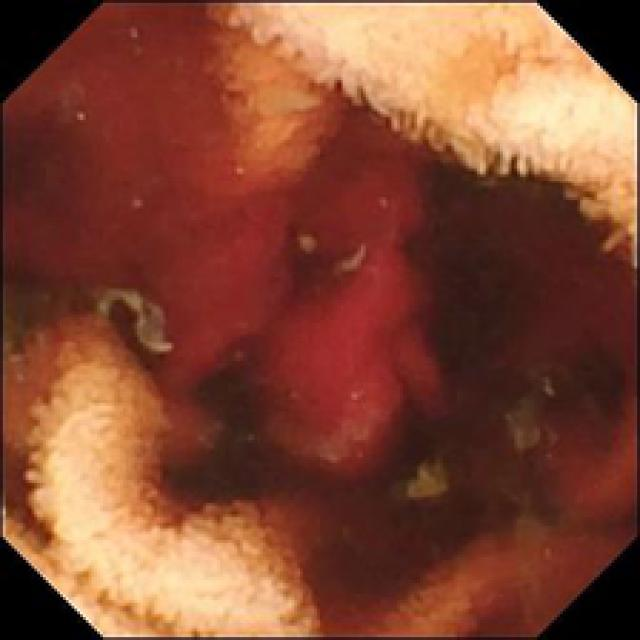bleeding: (311, 103, 640, 640), (2, 2, 300, 457), (0, 463, 57, 548)
